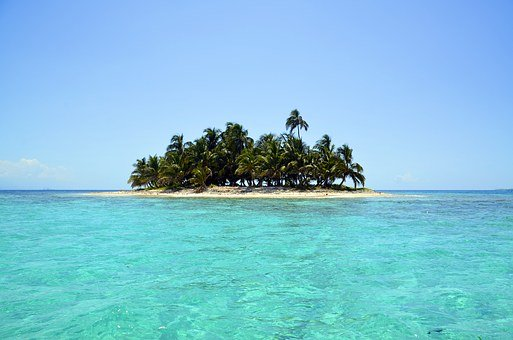sea: (7, 189, 513, 339)
sky: (3, 1, 513, 185)
tree: (121, 114, 368, 187)
